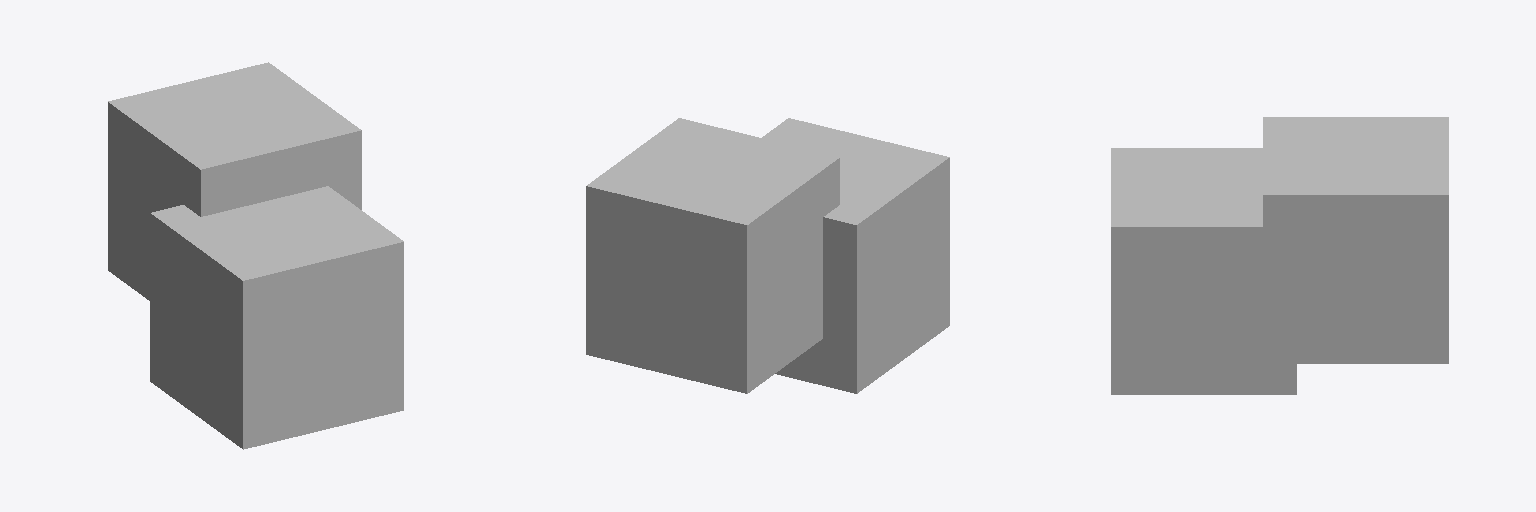
Rendered from doublecube.obj.
3 views of the same model, side by side, from view 1: azimuth 30°, elevation 25°; view 2: azimuth 150°, elevation 25°; view 3: azimuth 270°, elevation 25° (orthographic).
Parts seen in each view (by area): view 1: Cube, Cube.001; view 2: Cube.001, Cube; view 3: Cube.001, Cube.
Part boxes in pixels (x1,y1,x2,y2): Cube: (150, 186, 403, 449); Cube.001: (108, 62, 361, 300); Cube.001: (586, 118, 839, 393); Cube: (762, 118, 949, 393); Cube.001: (1263, 117, 1448, 363); Cube: (1111, 148, 1296, 394).
Bounding box in the file's own units: 2.42 × 2.56 × 3.63.